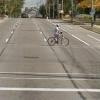Bicycle: (46, 30, 70, 48)
